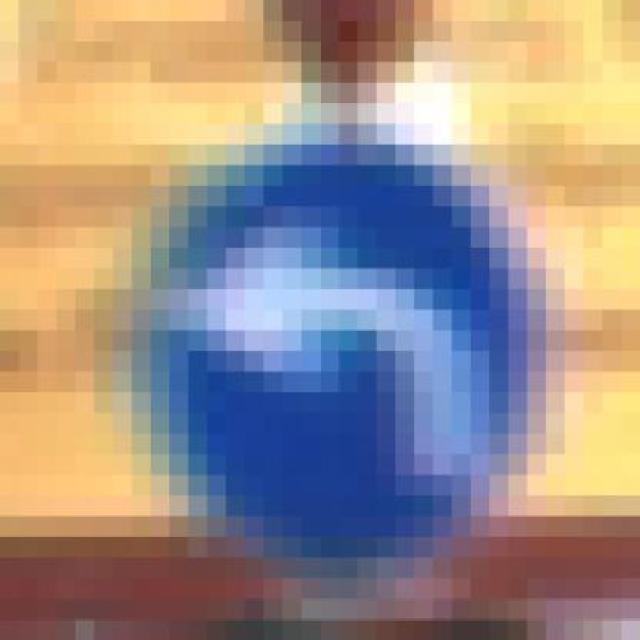Turn left ahead: (93, 103, 564, 579)
